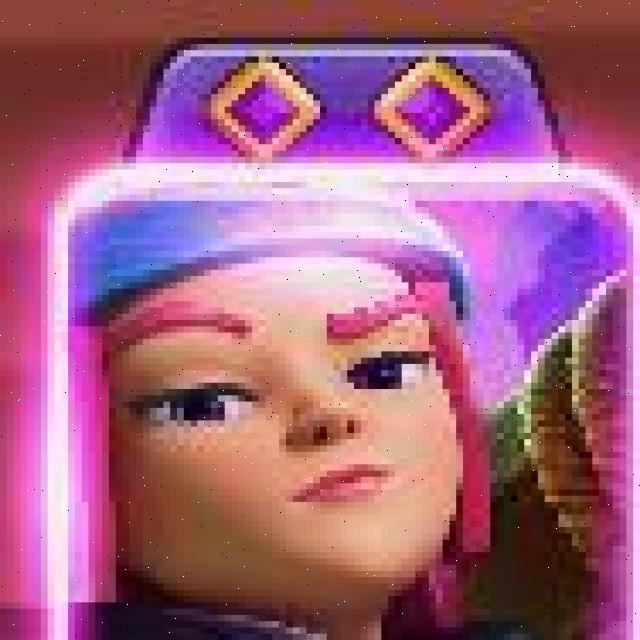Evolved_Firecracker: (41, 166, 636, 640)
